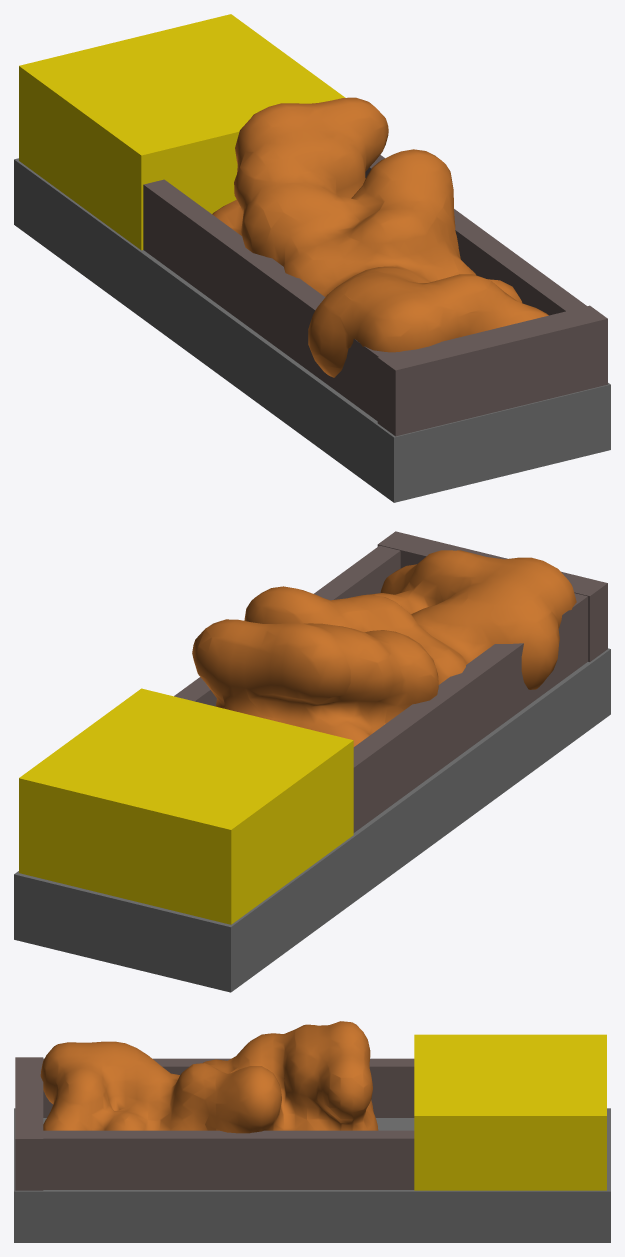
The model's file is launch.fbx.
3 views of the same model, one above another, from view 1: azimuth 30°, elevation 25°; view 2: azimuth 150°, elevation 25°; view 3: azimuth 270°, elevation 25° (orthographic). The views are drawn at different scales.
Visible parts, largest first — view 1: Mball, Cube.029, Cube.028, Cube.032, Cube.031, Cube.030; view 2: Cube.029, Mball, Cube.028, Cube.031, Cube.032, Cube.030; view 3: Cube.028, Cube.029, Mball, Cube.030, Cube.032, Cube.031.
Part boxes in pixels (x1,y1,x2,y2): Mball: [212, 97, 548, 377]; Cube.029: [19, 14, 345, 250]; Cube.028: [14, 158, 610, 502]; Cube.032: [377, 305, 607, 436]; Cube.031: [143, 179, 398, 420]; Cube.030: [365, 155, 586, 315]; Cube.029: [19, 688, 353, 924]; Mball: [192, 550, 576, 746]; Cube.028: [14, 648, 610, 992]; Cube.031: [353, 593, 587, 832]; Cube.032: [377, 531, 607, 661]; Cube.030: [174, 545, 400, 706]; Cube.028: [14, 1108, 610, 1242]; Cube.029: [414, 1034, 606, 1190]; Mball: [40, 1021, 378, 1133]; Cube.030: [43, 1130, 414, 1189]; Cube.032: [15, 1057, 43, 1190]; Cube.031: [43, 1058, 414, 1117].
Size of the model in its own units: 734 by 668 by 2108.
